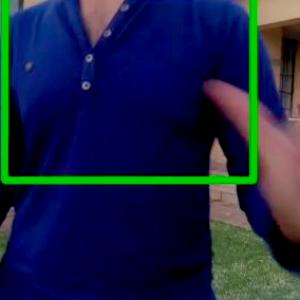land_hand: (195, 66, 300, 259)
